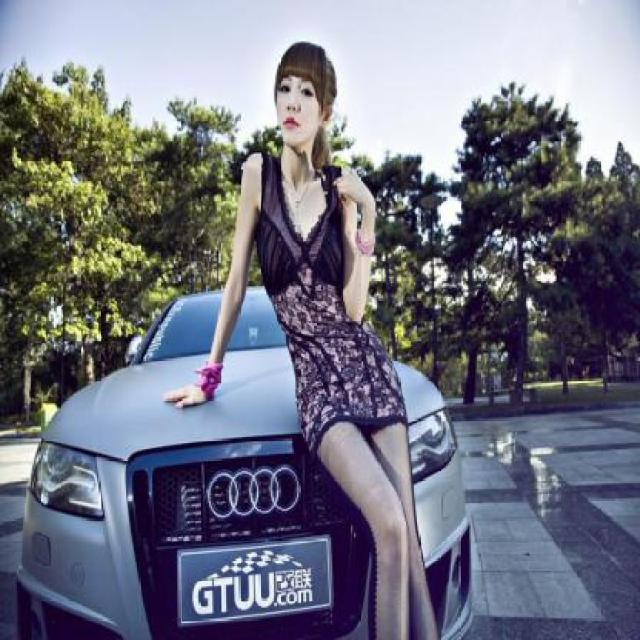Person: (225, 18, 438, 639)
